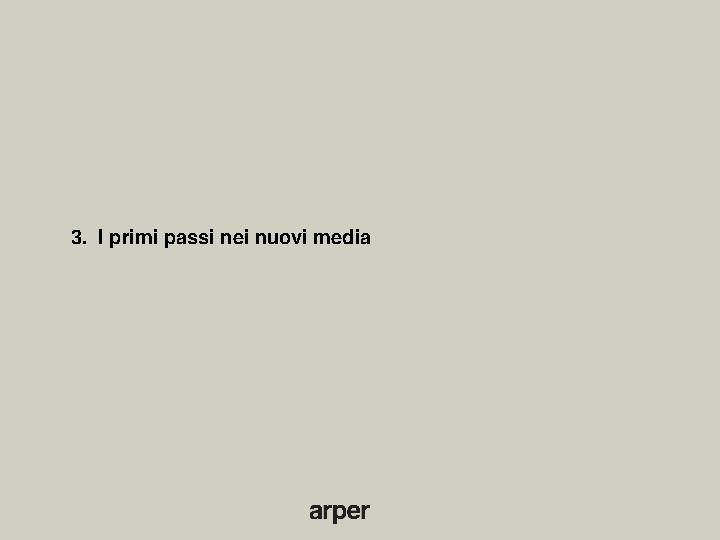title: (63, 211, 387, 259)
